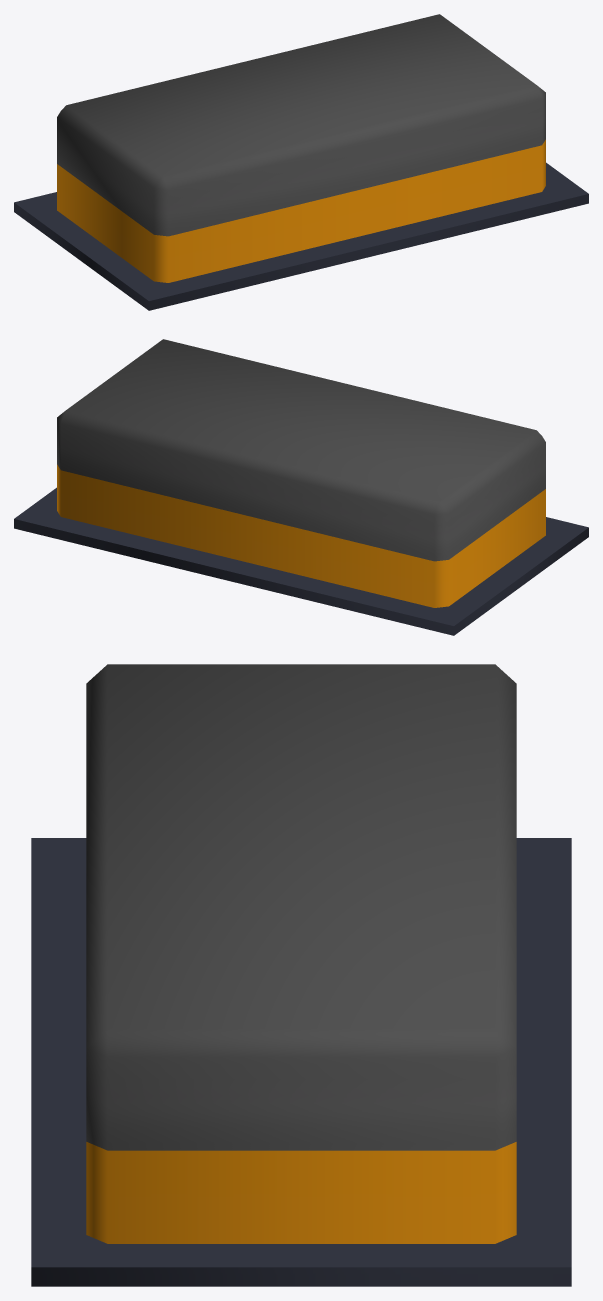
Rendered from RoofAdd_2_C_2.fbx.
3 views of the same model, one above another, from view 1: azimuth 30°, elevation 25°; view 2: azimuth 150°, elevation 25°; view 3: azimuth 270°, elevation 25° (orthographic). The views are drawn at different scales.
Parts seen in each view (by area): view 1: RoofAdd_2_C_2; view 2: RoofAdd_2_C_2; view 3: RoofAdd_2_C_2.
Part boxes in pixels (x1,y1,x2,y2): RoofAdd_2_C_2: (14,14,588,310); RoofAdd_2_C_2: (14,339,588,635); RoofAdd_2_C_2: (31,664,571,1286).
Size of the model in its own units: 303 by 74.17 by 161.
